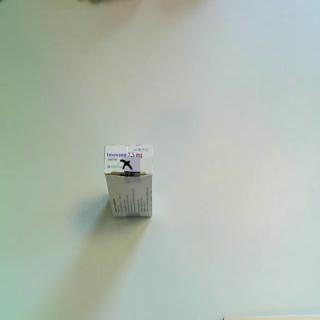imovane7-5mg: (103, 143, 155, 220)
